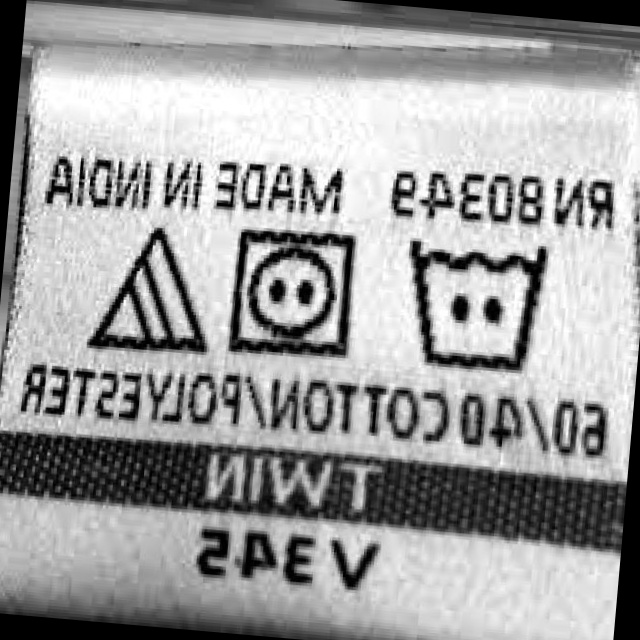40C: (391, 226, 561, 383)
non_chlorine_bleach: (82, 220, 224, 365)
tumble_dry_medium: (220, 219, 367, 364)
